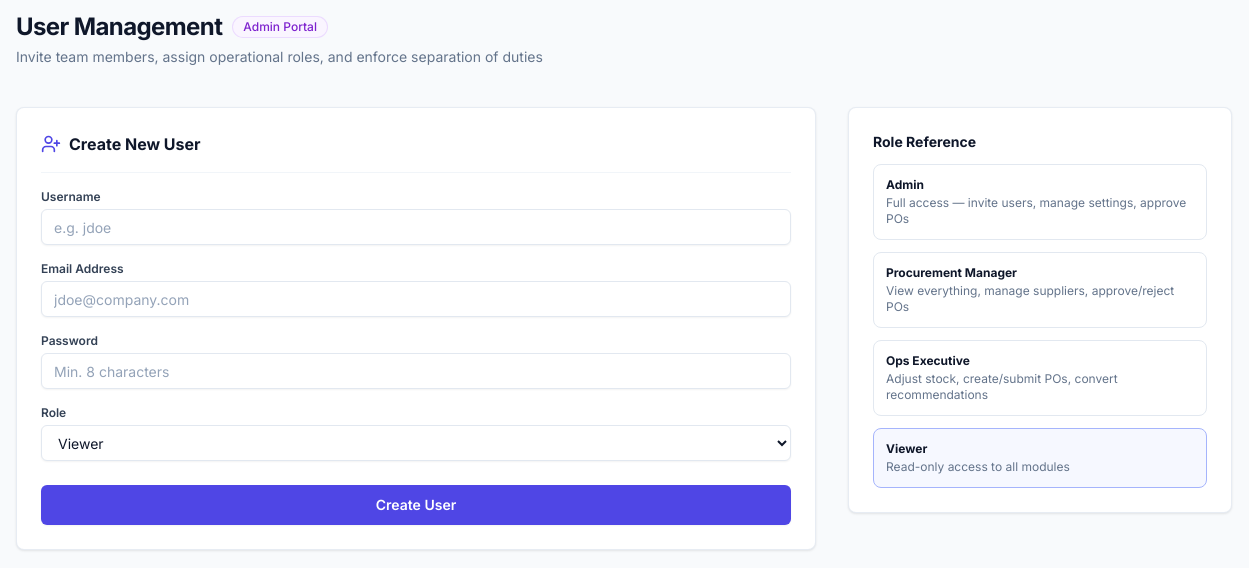
Test: AdminUserManagementPage › Form Submission › should disable submit button while submitting
Type "john_doe" into the field labelled "Username" at (416, 227), box top-left (41, 209), bottom-right (791, 245)
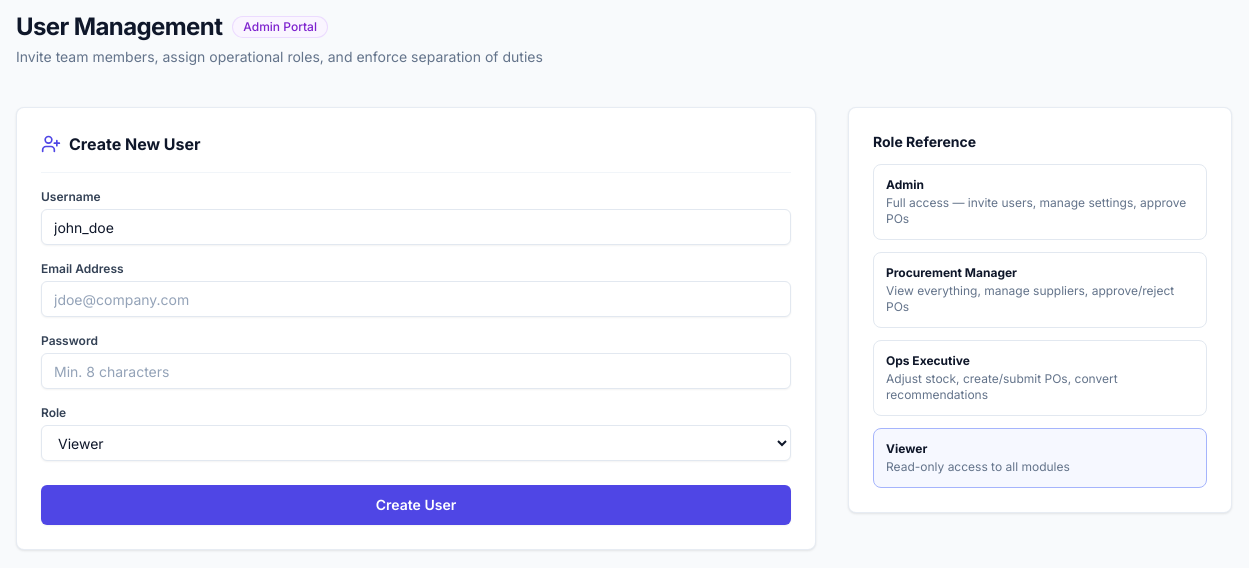
Type "john@test.com" into the field labelled "Email Address" at (416, 299), box top-left (41, 281), bottom-right (791, 317)
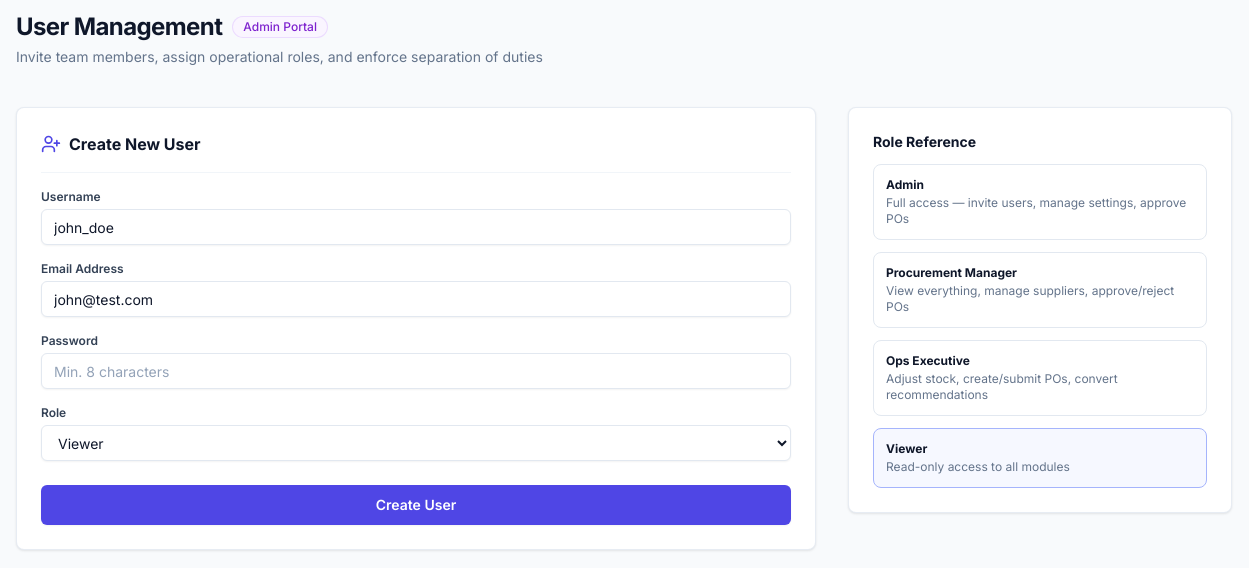
Type "Password1" into the password field labelled "Password" at (416, 371), box top-left (41, 353), bottom-right (791, 389)
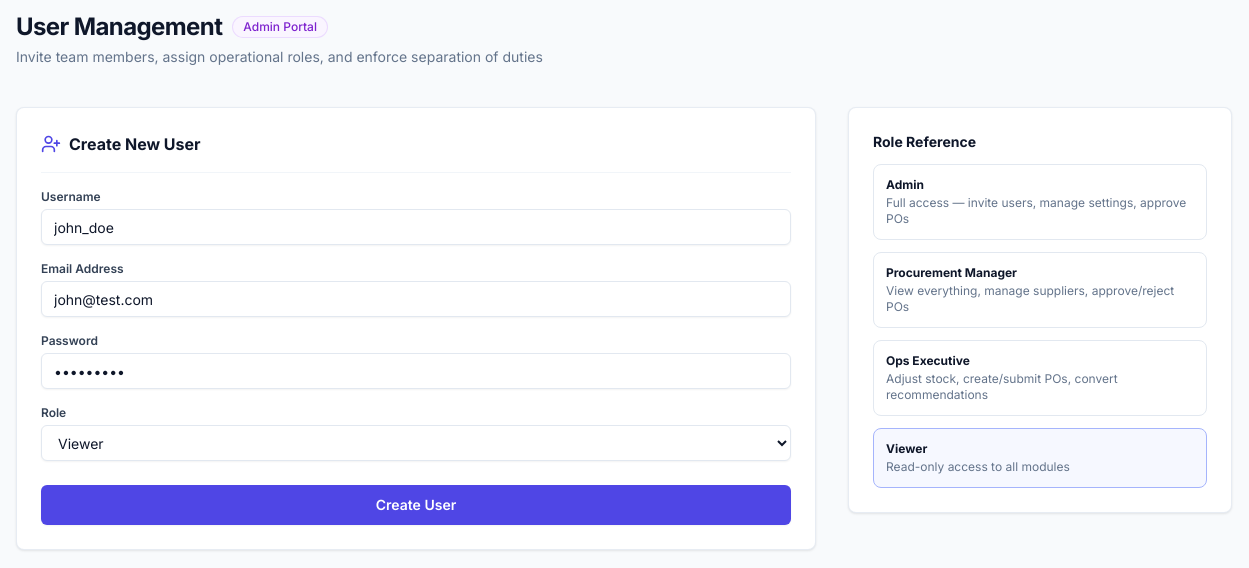
Click the button "Create User" at (416, 505), box top-left (41, 485), bottom-right (791, 525)
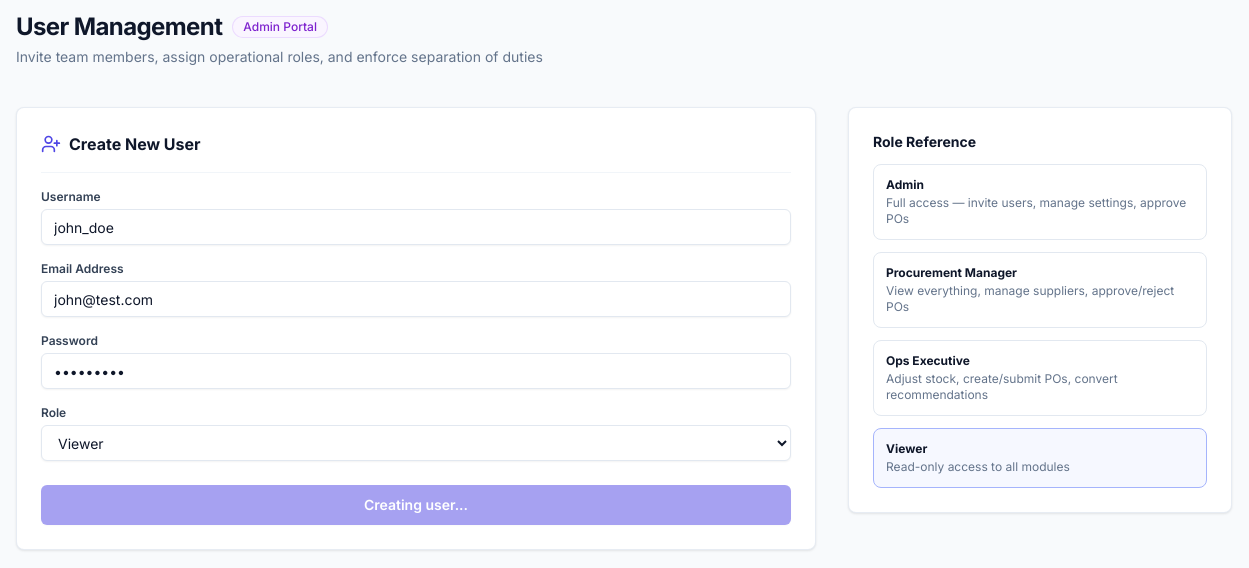
Now the button "Creating user..." is disabled, box top-left (41, 485), bottom-right (791, 525)
